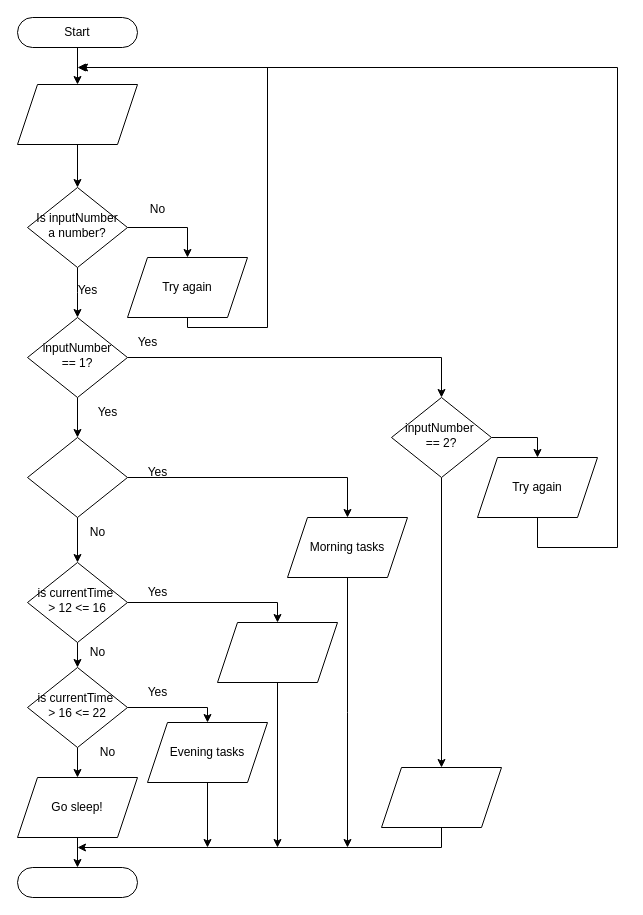
This 643x915 diagram has some shape labels left out. The shapes that lost their labels are listed below. From the top down, each one's centre as x and y in pixels, then its label:
the point at 77,114: Input number for choose the option
the point at 77,477: is currentTime > 6 <= 12
the point at 277,652: Afternoon tasks
the point at 441,797: All tasks
the point at 77,882: End
